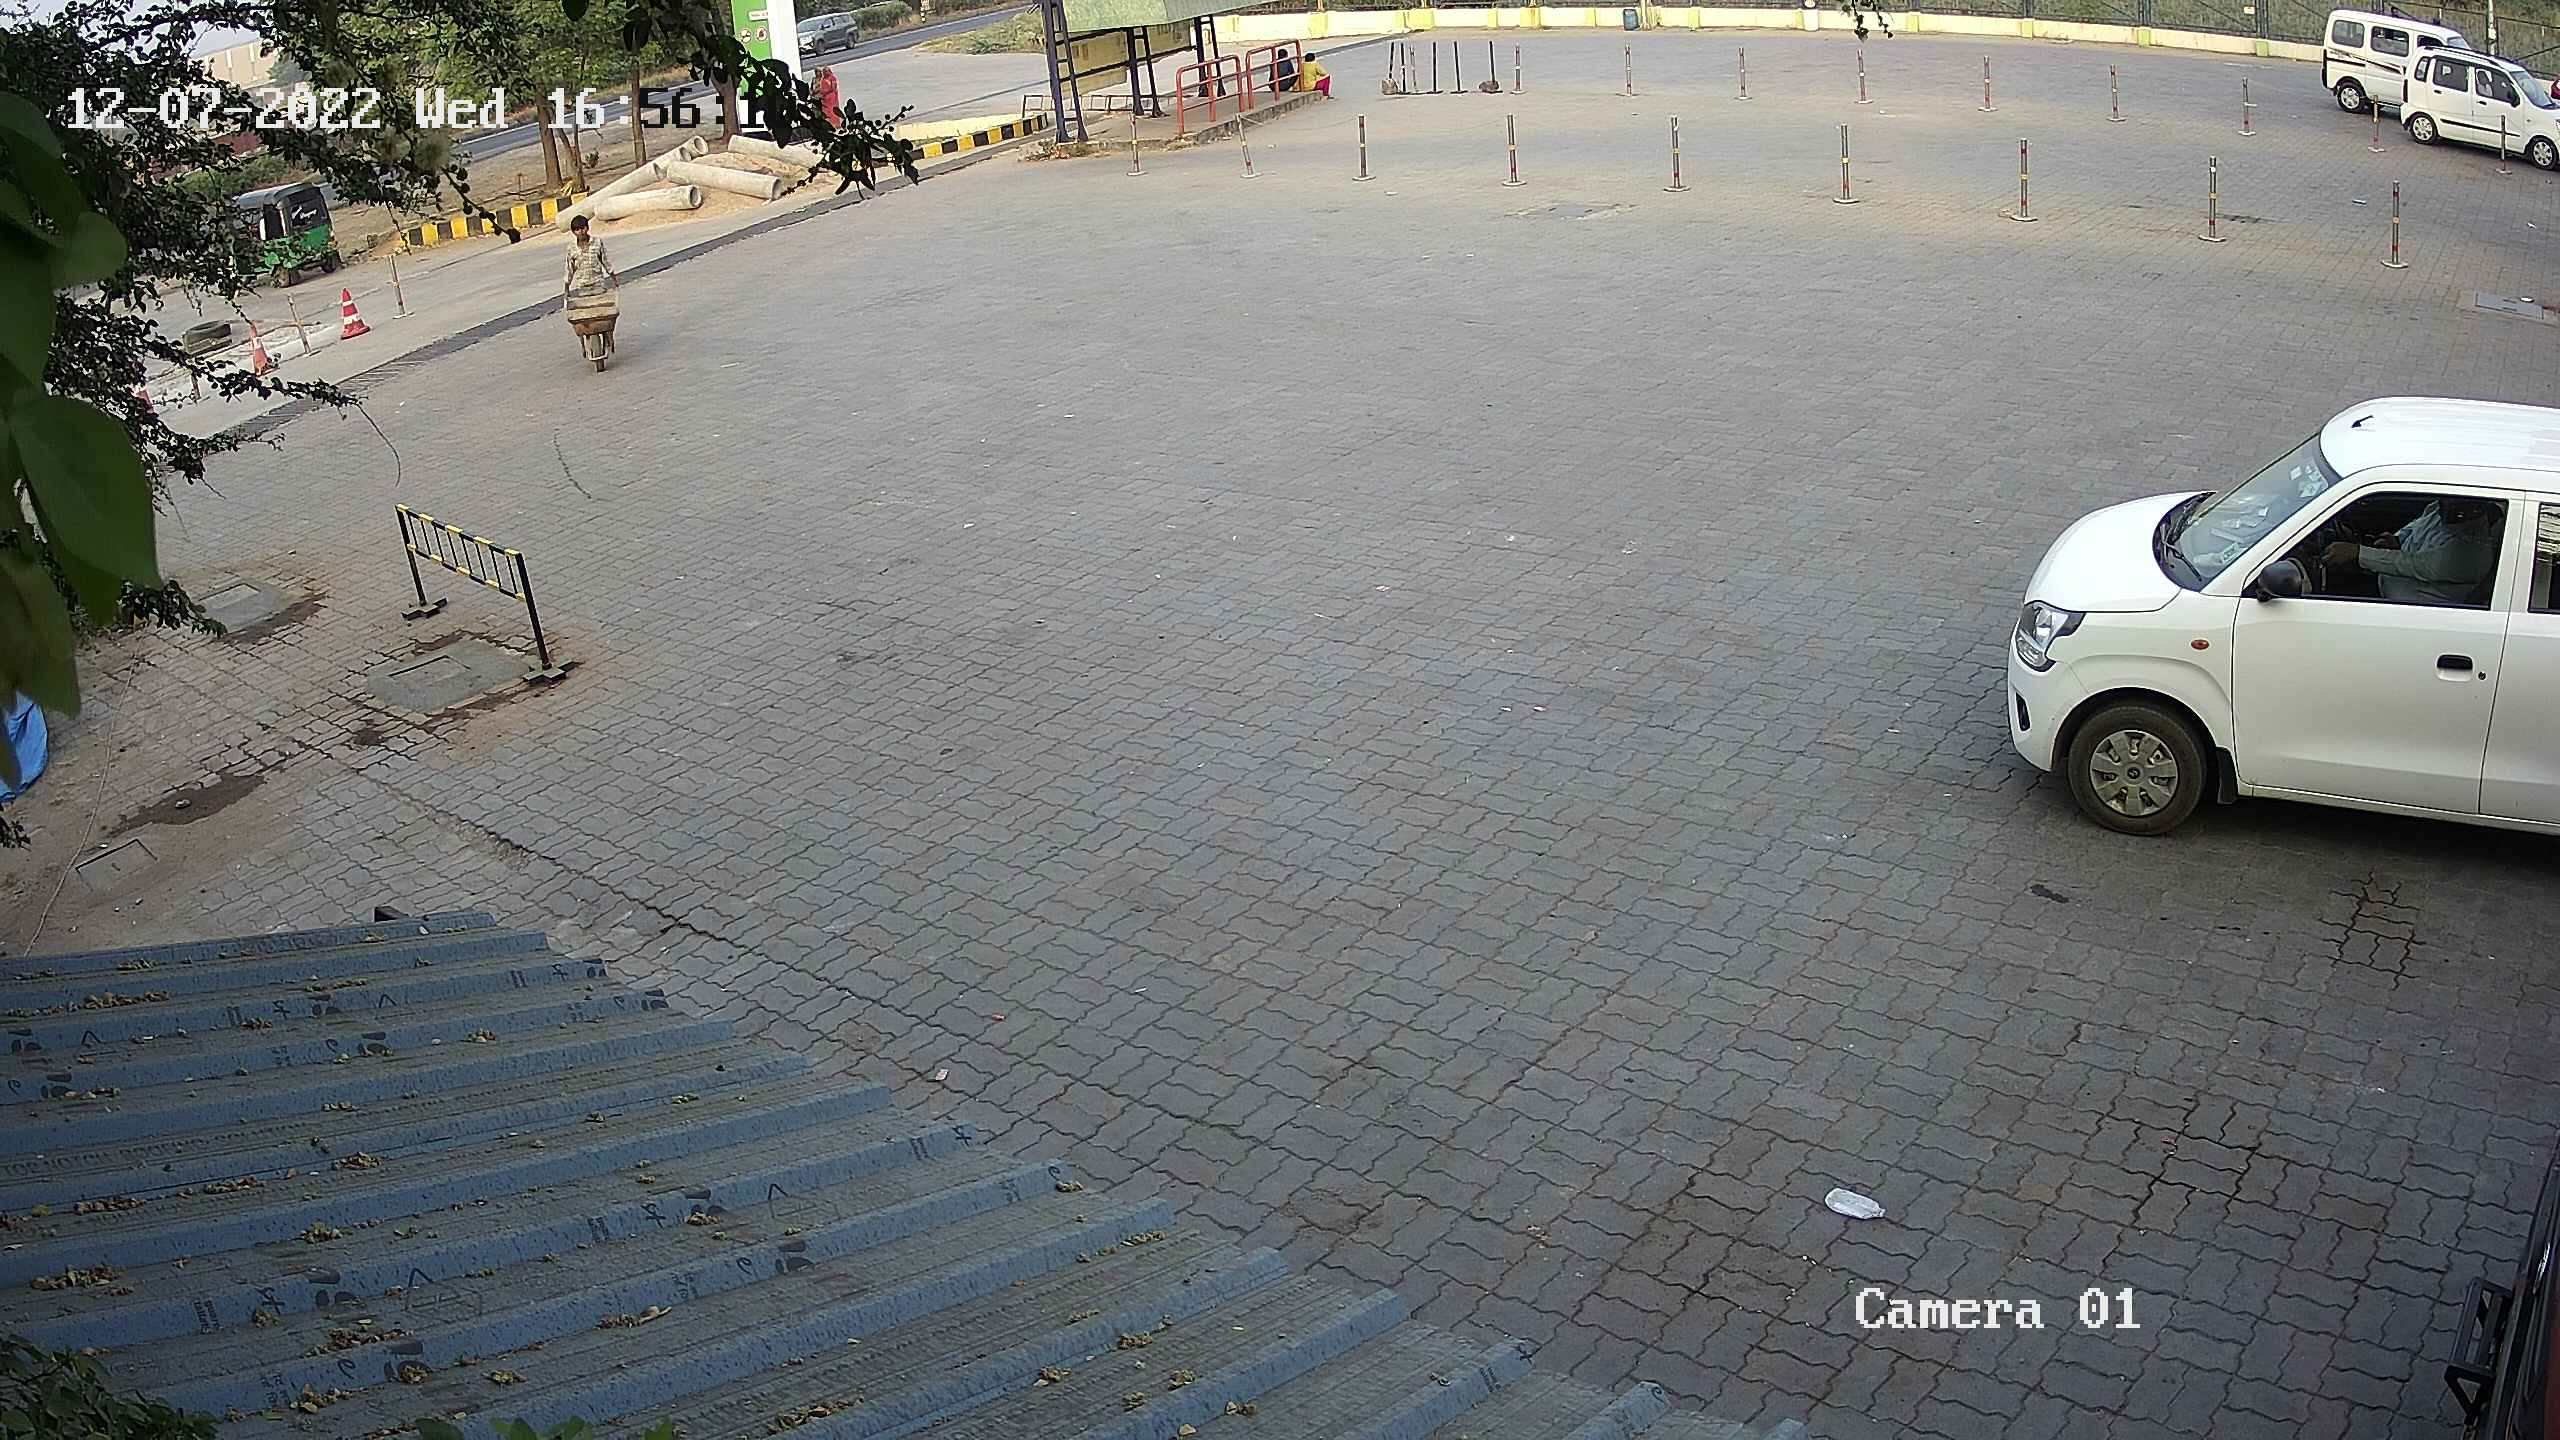Auto: (185, 164, 367, 320)
Car: (1999, 371, 2558, 921), (2377, 30, 2558, 197), (2303, 4, 2498, 134), (781, 4, 884, 70)
